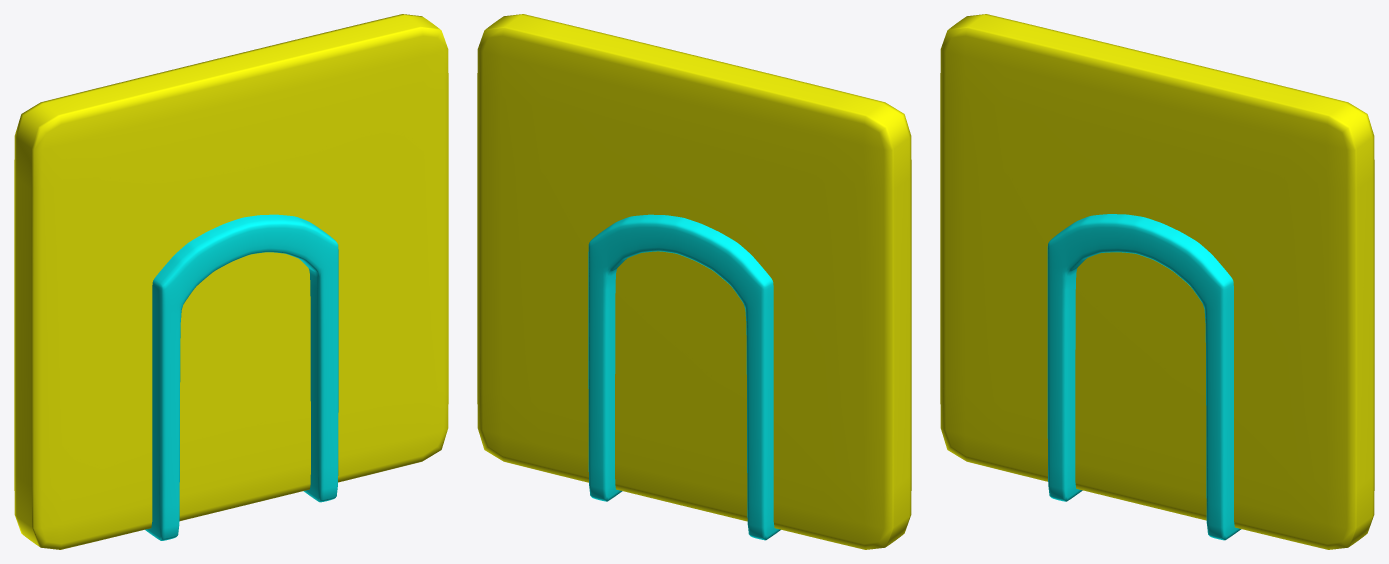
The picture shows the model from 3 angles, left to right: view 1: azimuth 30°, elevation 25°; view 2: azimuth 150°, elevation 25°; view 3: azimuth 330°, elevation 25°; orthographic projection.
Parts seen in each view (by area): view 1: polySurface999; view 2: polySurface999; view 3: polySurface999.
Part boxes in pixels (x1,y1,x2,y2): polySurface999: [14, 14, 448, 549]; polySurface999: [477, 14, 911, 549]; polySurface999: [940, 14, 1374, 549].
Size of the model in its own units: 0.9994 by 1.02 by 0.1741.
